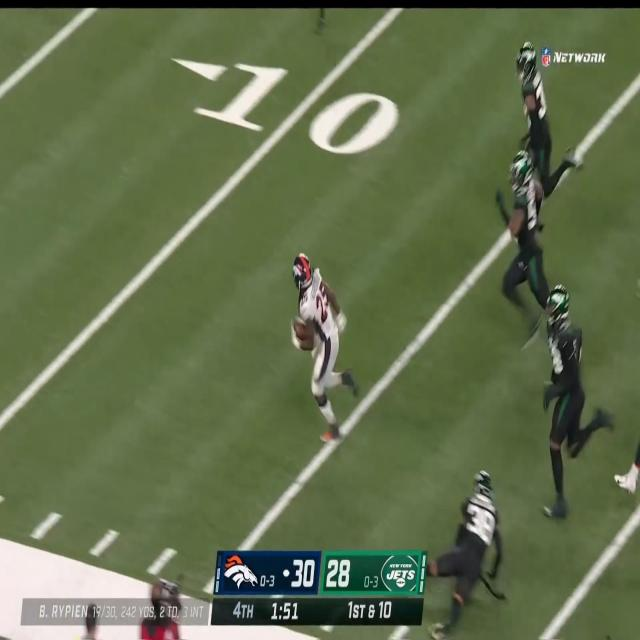football: (293, 316, 313, 343)
players: (542, 284, 615, 519), (496, 146, 563, 350), (426, 470, 503, 640), (292, 253, 359, 444), (517, 41, 585, 199)
